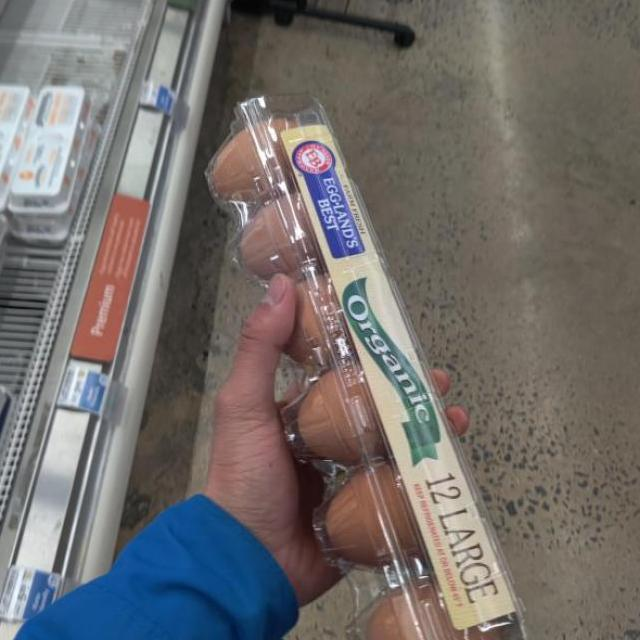Eggs: (209, 99, 531, 639)
